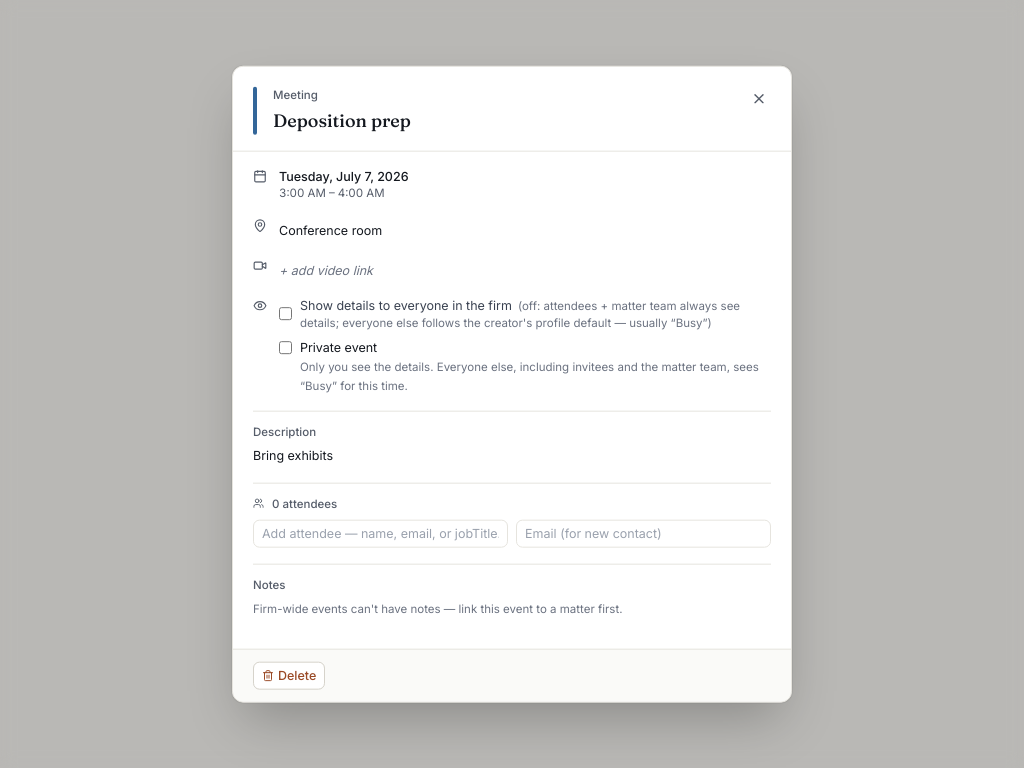
Test: Escape handling — inline editors cancel without closing the modal › Escape in the time editor cancels the edit only, dropping the draft
Click the button with aria-label "Edit date and time".
click(344, 184)  # box [275,168,412,201]
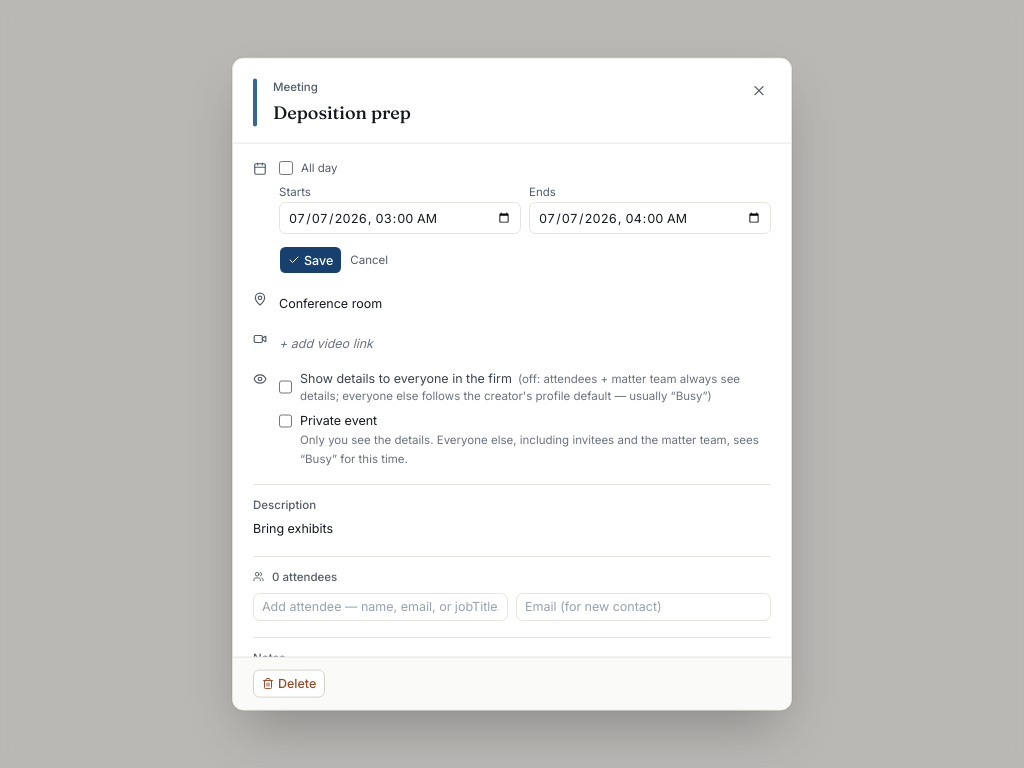
Replace the text in the field labelled "Starts" with "2026-07-08T10:00" at (400, 218), box [279,202,521,234]
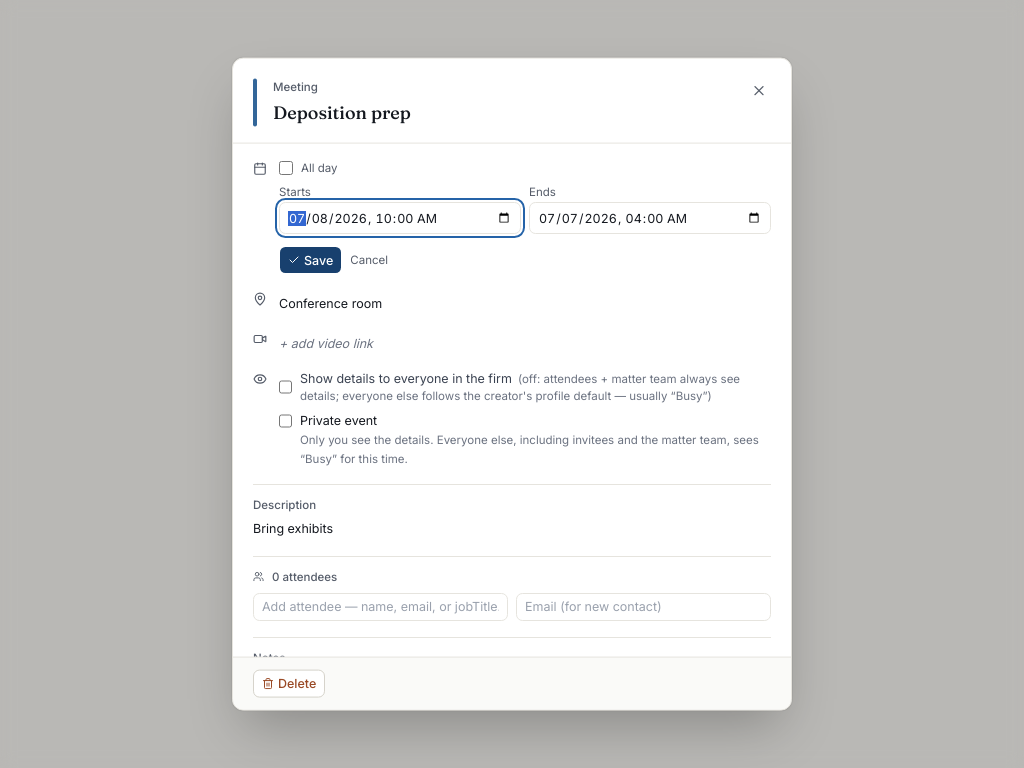
Press Escape
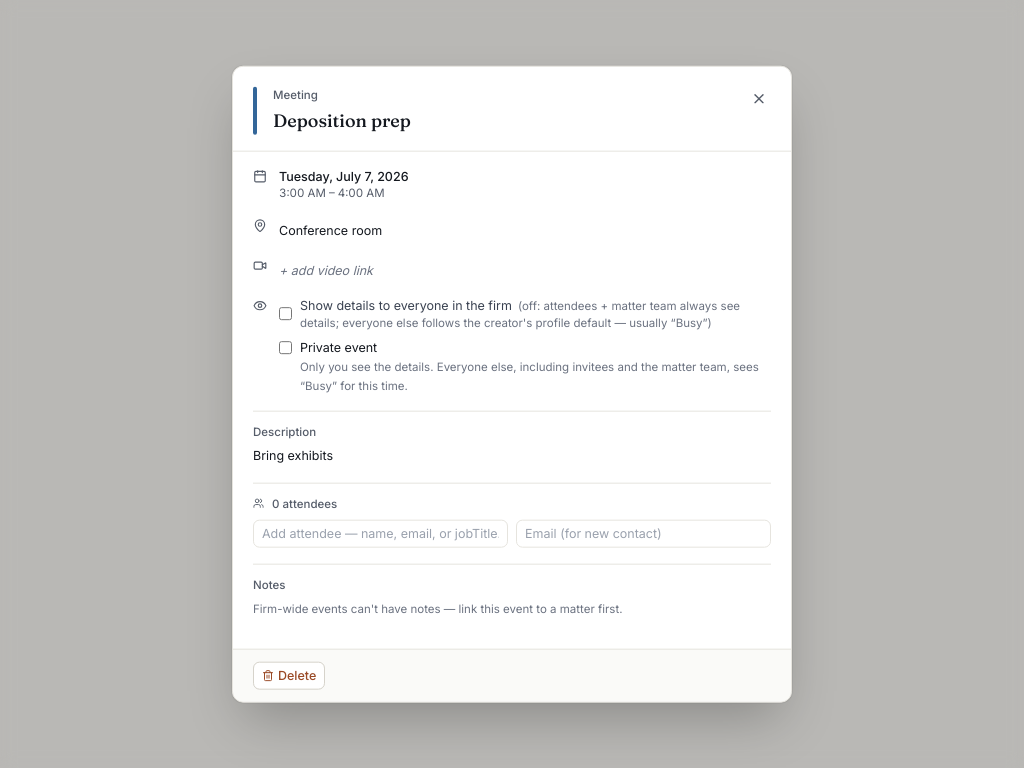
Result: the label labelled "Starts" is gone
// Re-opening seeds from the committed schedule, not the draft.
Click the button with aria-label "Edit date and time".
click(344, 184)  # box [275,168,412,201]
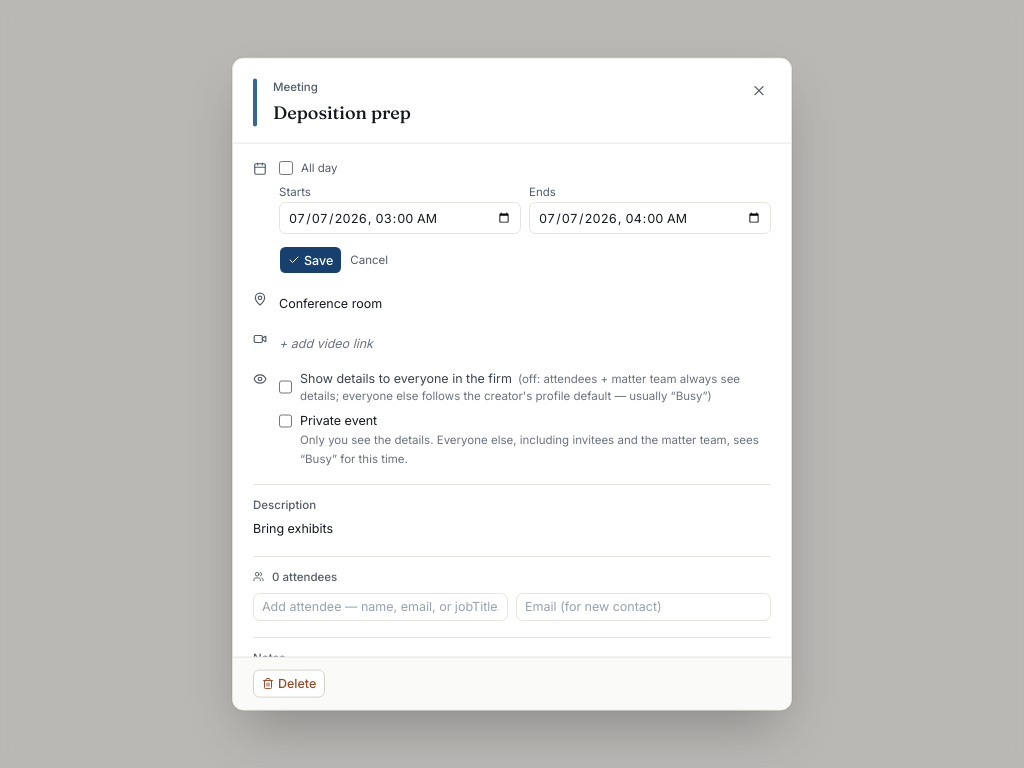
Result: the field labelled "Starts" holds "2026-07-07T03:00" at [279,202,521,234]
